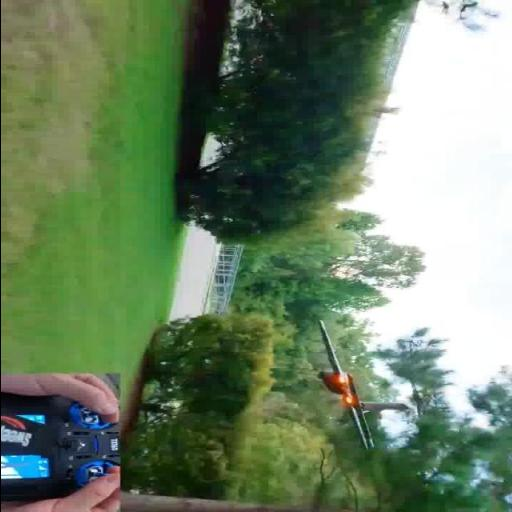uav: (288, 316, 403, 460)
